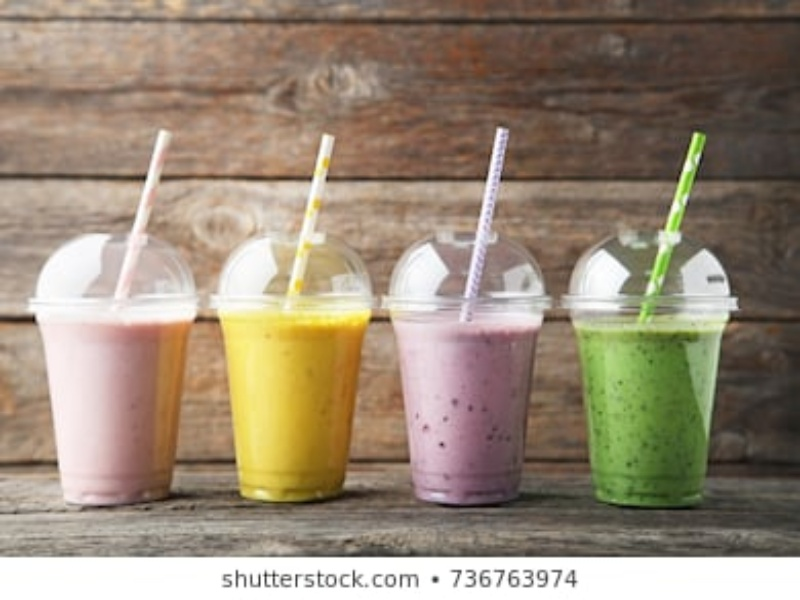plastic-cup: (565, 231, 735, 506), (381, 232, 552, 504), (33, 234, 195, 502), (213, 237, 375, 505)
straw: (637, 129, 711, 327), (454, 125, 513, 319), (109, 130, 173, 302), (280, 132, 344, 304)
